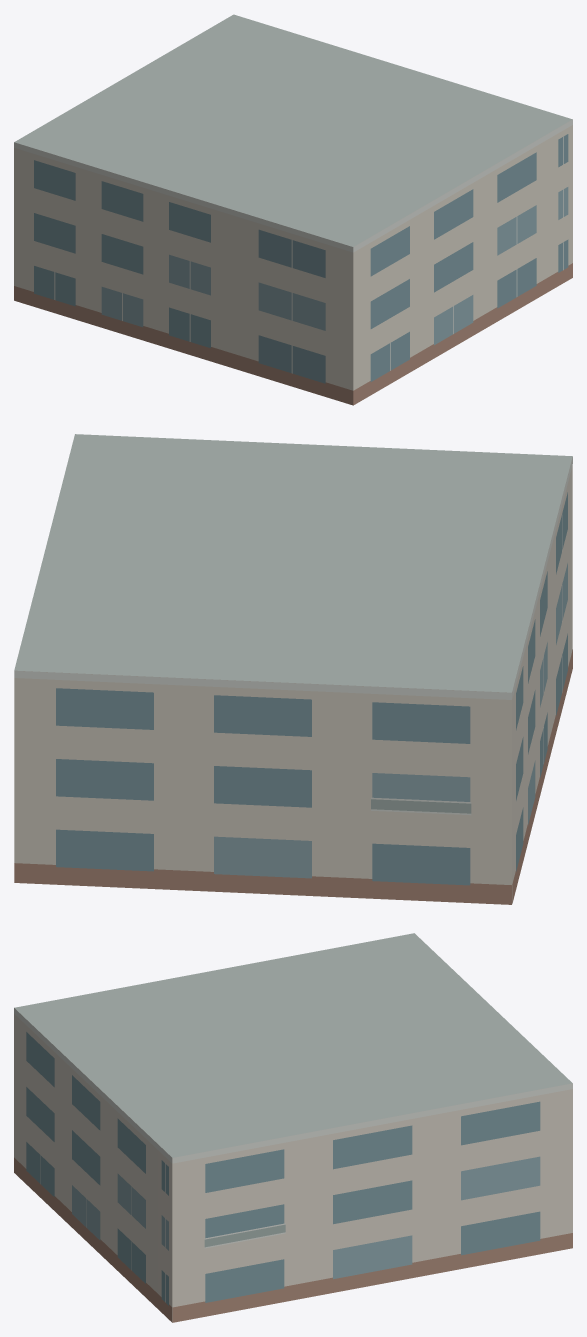
The model's file is survey-upis-32808055.glb.
The picture shows the model from 3 angles, top to bottom: view 1: azimuth 30°, elevation 25°; view 2: azimuth 150°, elevation 25°; view 3: azimuth 270°, elevation 25°; orthographic projection. The views are drawn at different scales.
Parts seen in each view (by area): view 1: survey-upis-32808055.tmp; view 2: survey-upis-32808055.tmp; view 3: survey-upis-32808055.tmp.
Part boxes in pixels (x1,y1,x2,y2): survey-upis-32808055.tmp: (14,14,572,405); survey-upis-32808055.tmp: (14,434,572,904); survey-upis-32808055.tmp: (14,933,572,1322).
Bounding box in the file's own units: 20.48 × 7 × 21.51.
